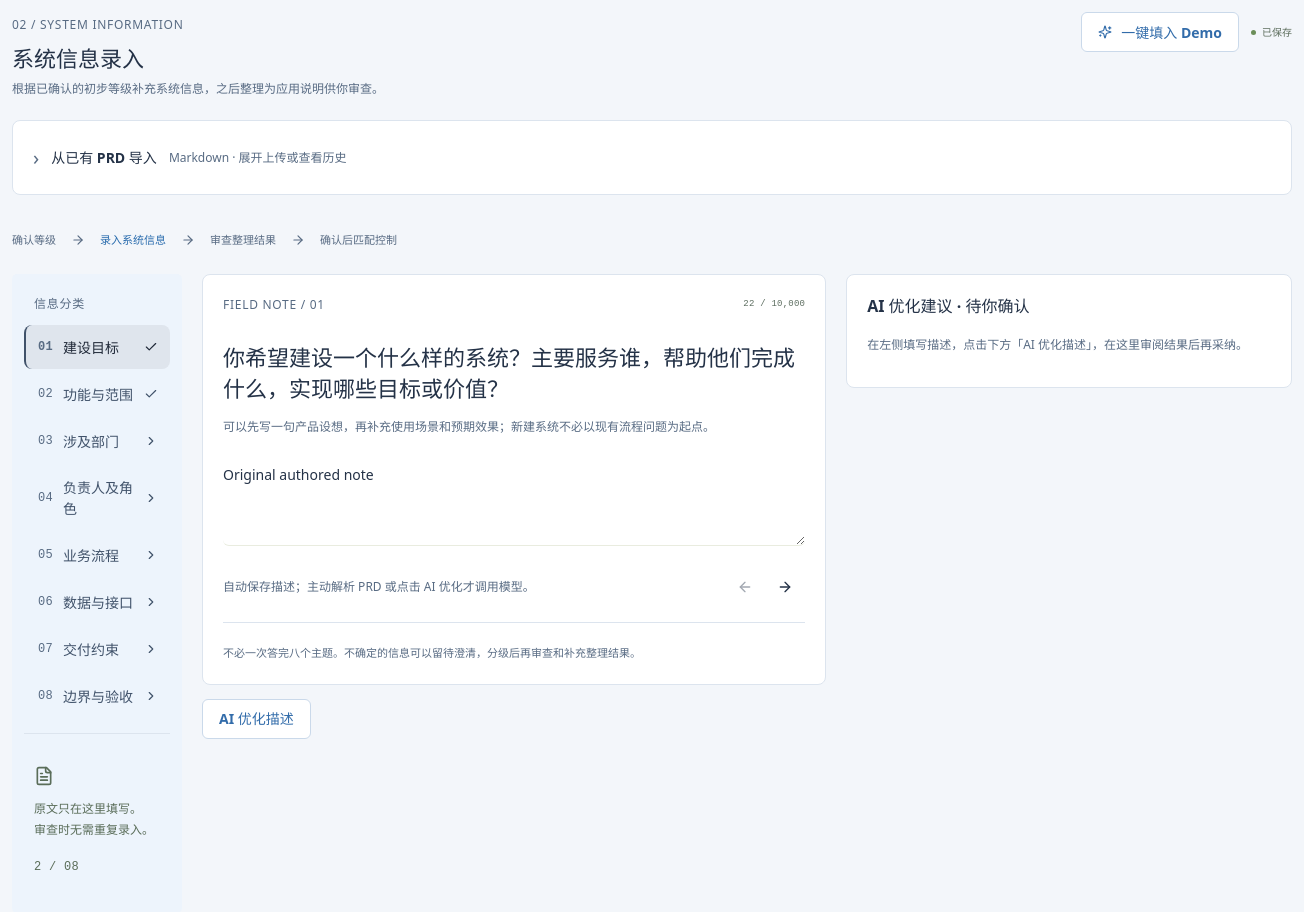
Test: fills demo notes only on request and restores authored text on undo
Click the button "一键填入 Demo": (1160, 32) [1081, 12, 1239, 52]
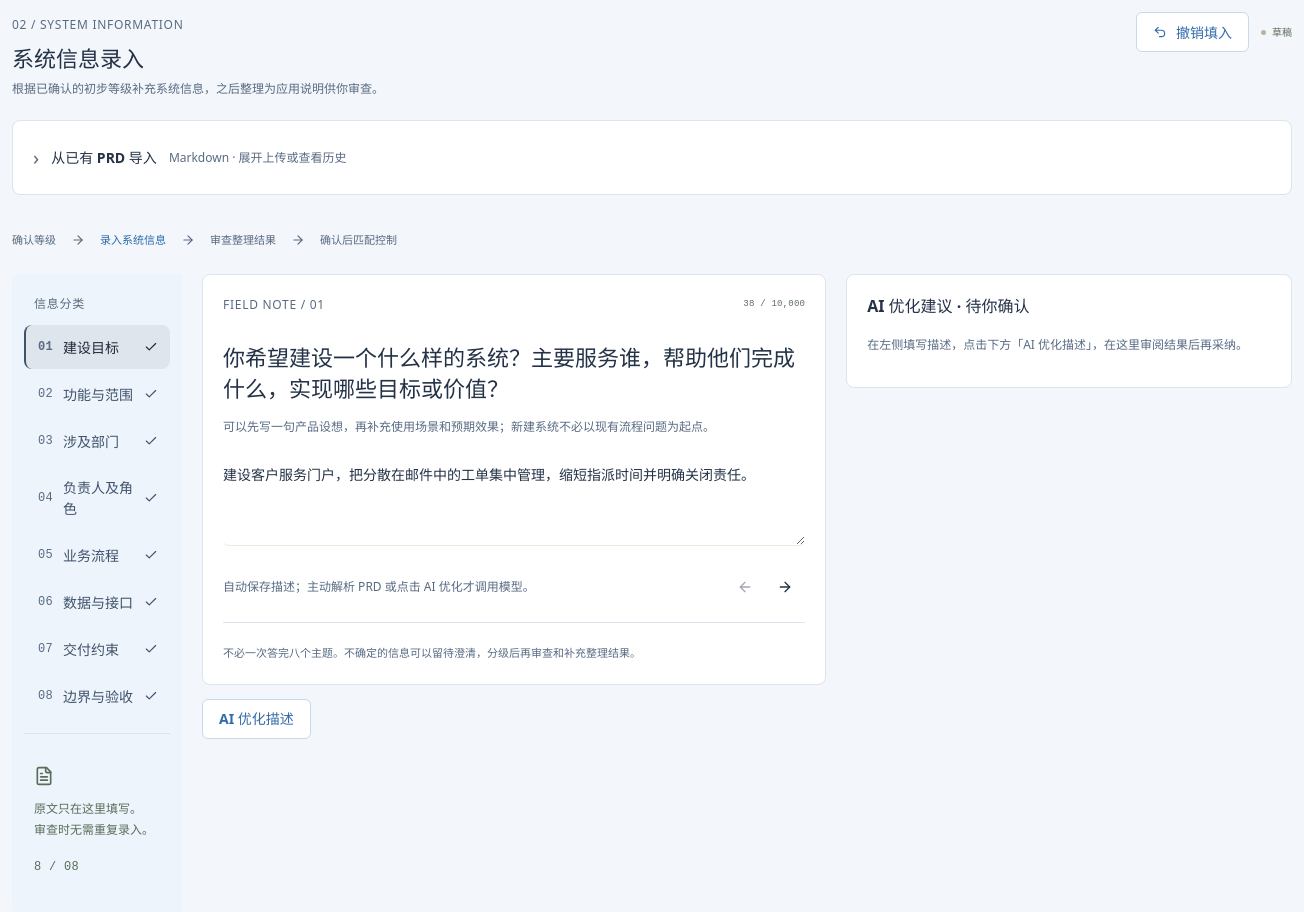
Click the button "撤销填入": (1192, 32) [1136, 12, 1249, 52]
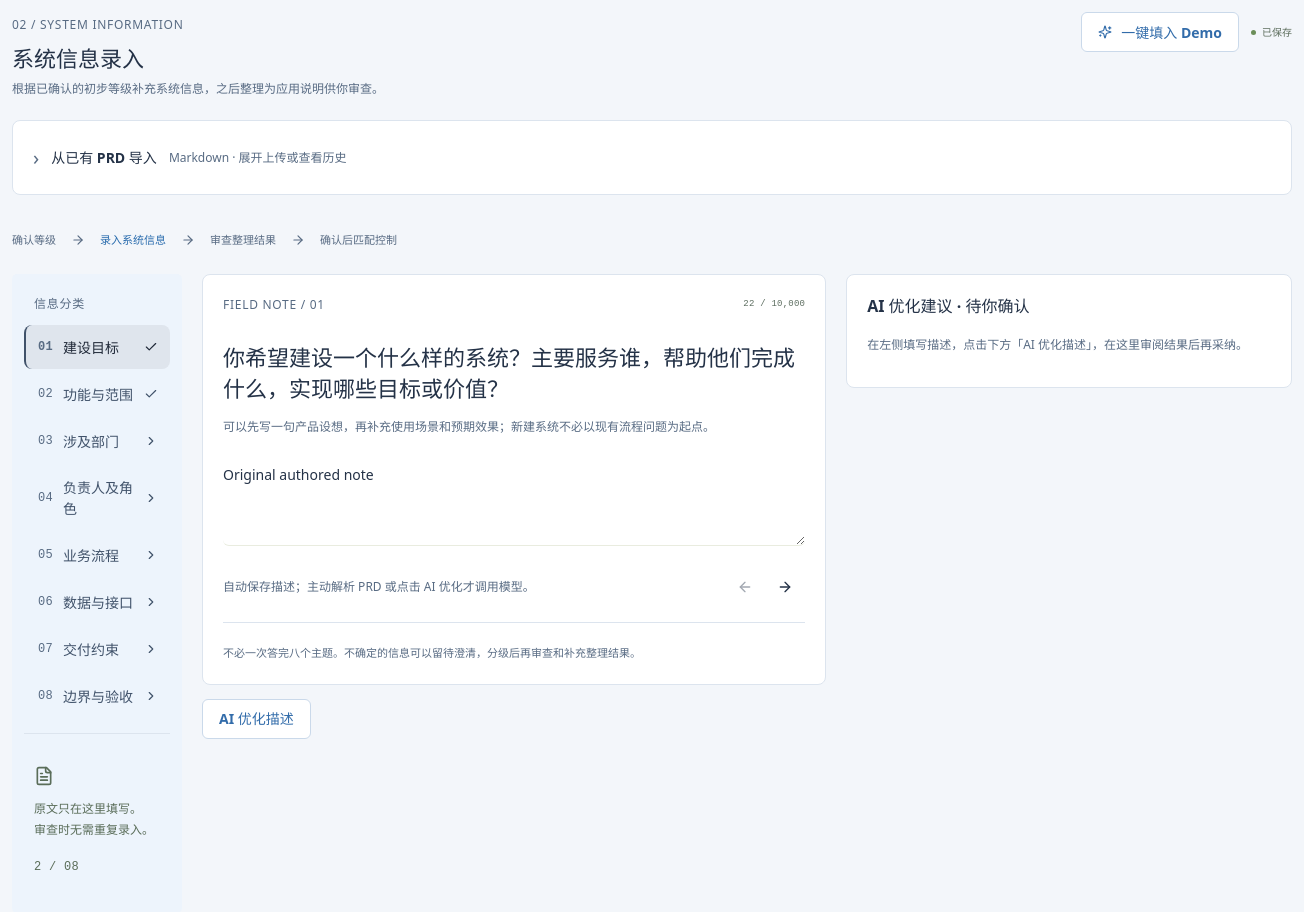
Result: the text box named "建设目标" holds "Original authored note" at [223, 450, 805, 546]
